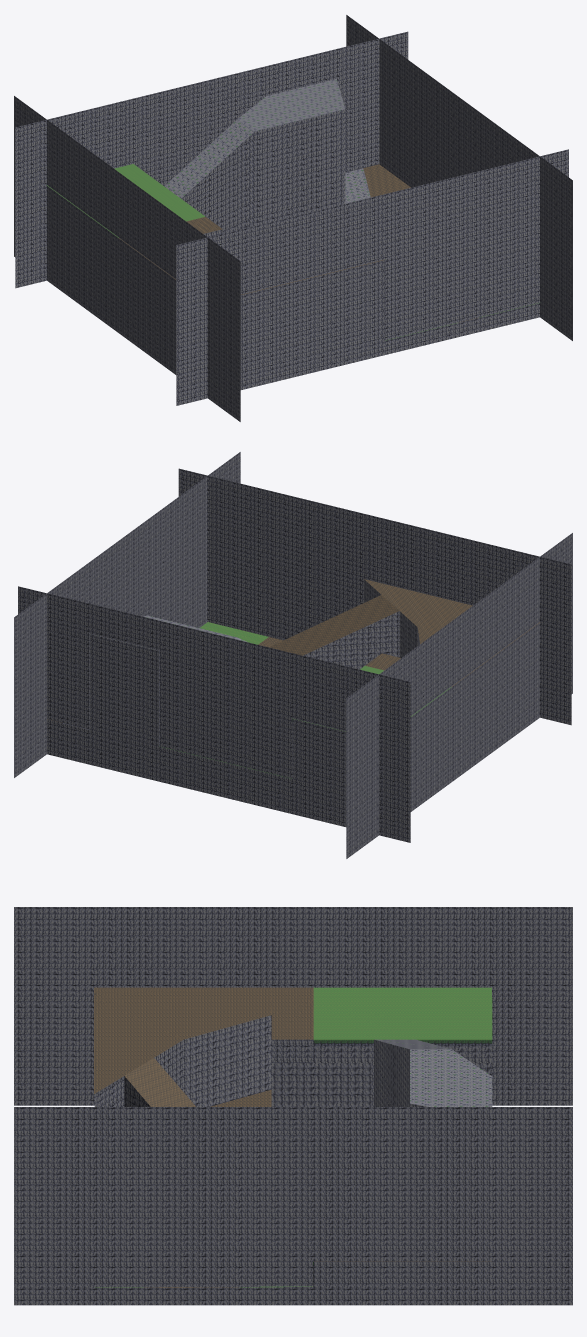
The model's file is Mapa3Jam.glb.
3 views of the same model, one above another, from view 1: azimuth 30°, elevation 25°; view 2: azimuth 150°, elevation 25°; view 3: azimuth 270°, elevation 25° (orthographic). The views are drawn at different scales.
Visible parts, largest first — view 1: Pared_col.012, Pared_col.015, Pared_col.013, Pared_col.014, Pared_col, Pared_col.003, Pared_col.002, Bosque_col.001, Pared_col.001; view 2: Pared_col.013, Pared_col.012, Pared_col.015, Pared_col.014, Pared_col, Pared_col.001, Pared_col.007, Pared_col.004, Bosque_col.002; view 3: Pared_col.014, Pared_col.015, Pared_col.001, Bosque_col.001, Pared_col.006, Pared_col.004, Pared_col.003, Pared_col, Pared_col.007, Pared_col.002, Pared_col.011.
Part boxes in pixels (box(x1,y1,x2,y2)): Pared_col.012: box(176, 149, 568, 405); Pared_col.015: box(14, 96, 240, 421); Pared_col.013: box(15, 31, 408, 288); Pared_col.014: box(346, 15, 572, 340); Pared_col: box(181, 109, 478, 322); Pared_col.003: box(164, 79, 345, 198); Pared_col.002: box(345, 164, 410, 203); Bosque_col.001: box(46, 164, 205, 237); Pared_col.001: box(119, 217, 384, 302); Pared_col.013: box(18, 586, 410, 842); Pared_col.012: box(178, 468, 571, 725); Pared_col.015: box(346, 533, 572, 858); Pared_col.014: box(14, 452, 240, 777); Pared_col: box(159, 611, 399, 746); Pared_col.001: box(364, 579, 540, 686); Pared_col.007: box(269, 595, 398, 655); Pared_col.004: box(399, 611, 419, 657); Bosque_col.002: box(199, 622, 268, 644); Pared_col.014: box(14, 1107, 572, 1305); Pared_col.015: box(14, 907, 572, 1105); Pared_col.001: box(94, 987, 313, 1093); Bosque_col.001: box(313, 987, 492, 1039); Pared_col.006: box(271, 1039, 492, 1106); Pared_col.004: box(154, 1015, 271, 1106); Pared_col.003: box(375, 1039, 492, 1106); Pared_col: box(144, 1039, 409, 1287); Pared_col.007: box(124, 1058, 195, 1106); Pared_col.002: box(210, 1089, 491, 1261); Pared_col.011: box(94, 1076, 124, 1106).
Bounding box in the file's own units: 39.75 × 15.57 × 39.75.
Materials: 7 (7 with a texture image).
